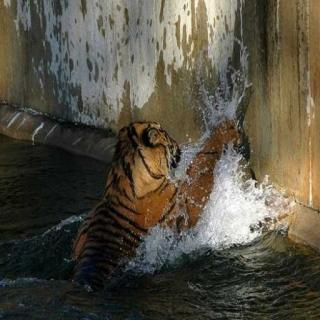Tiger: (74, 106, 254, 290)
